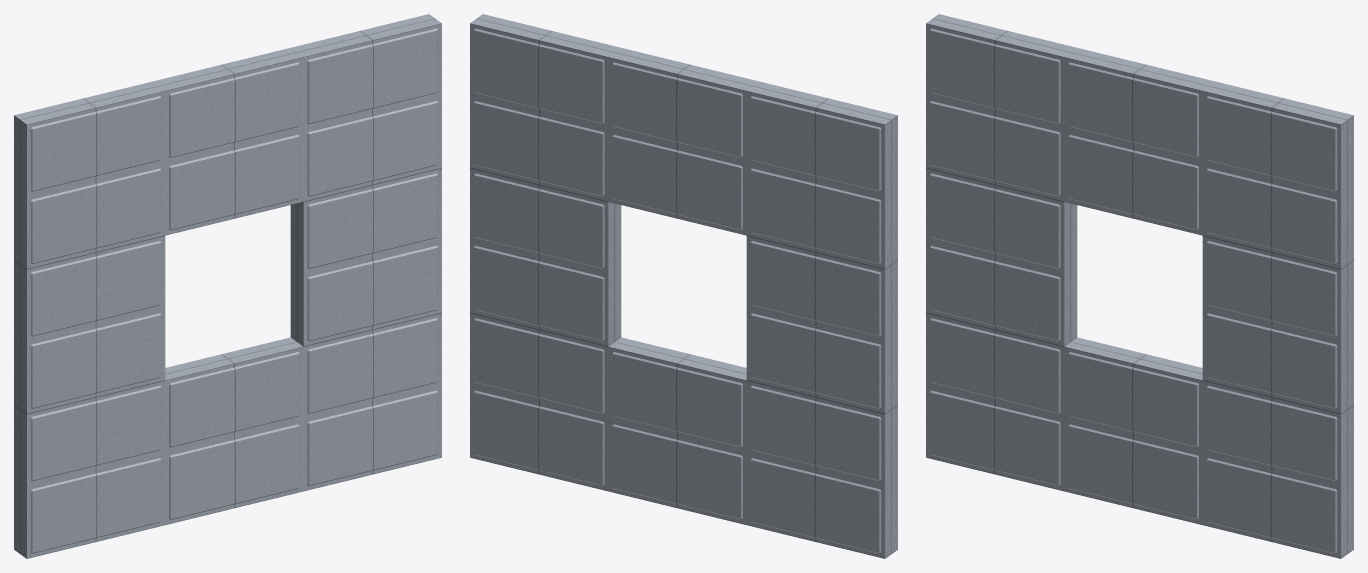
The model's file is Kit_Steel_WallWindow.fbx.
3 renders of one model, left to right at view 1: azimuth 30°, elevation 25°; view 2: azimuth 150°, elevation 25°; view 3: azimuth 330°, elevation 25°, orthographic.
Visible parts, largest first — view 1: Kit_Steel_WallWindow_LOD0; view 2: Kit_Steel_WallWindow_LOD0; view 3: Kit_Steel_WallWindow_LOD0.
Boxes of the visible parts, bbox=[...] form: Kit_Steel_WallWindow_LOD0: bbox=[14, 14, 441, 558]; Kit_Steel_WallWindow_LOD0: bbox=[470, 14, 897, 558]; Kit_Steel_WallWindow_LOD0: bbox=[926, 14, 1353, 558].
Size of what is drawn, in the model's own units: 3 by 3 by 0.18.
